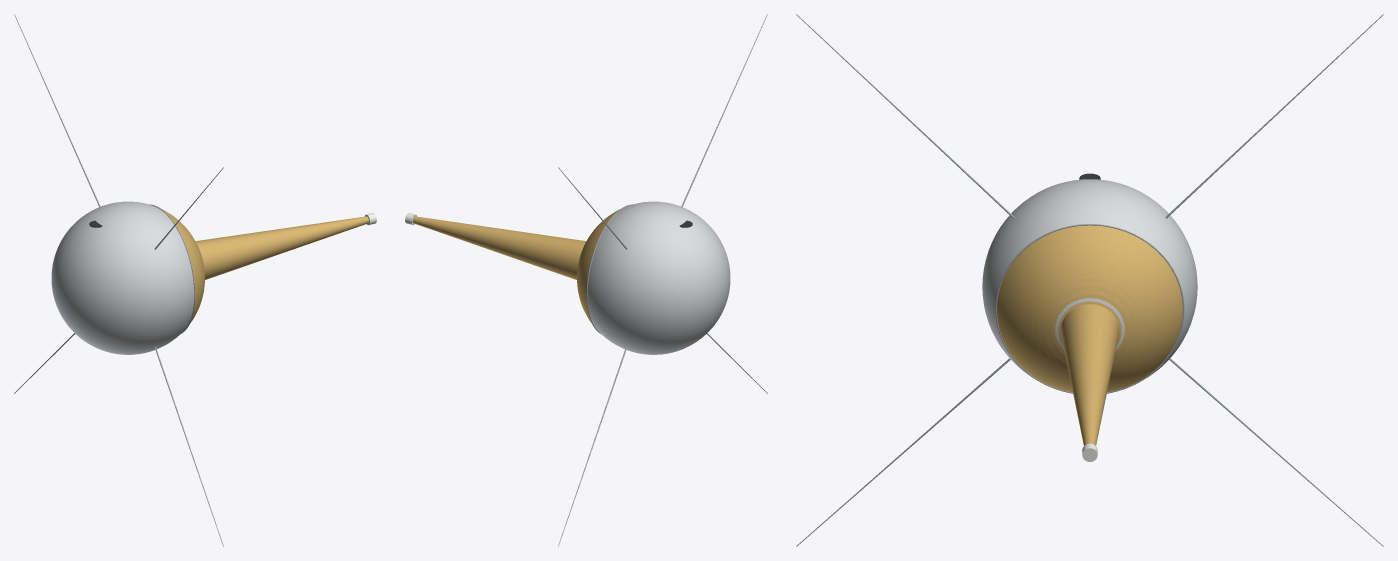
The model's file is vanguard-3.glb.
3 renders of one model, left to right at view 1: azimuth 30°, elevation 25°; view 2: azimuth 150°, elevation 25°; view 3: azimuth 270°, elevation 25°, orthographic. The views are drawn at different scales.
Parts seen in each view (by area): view 1: Magnesium lower sphere, 50.8 cm, Nonmagnetic magnetometer extension; view 2: Magnesium lower sphere, 50.8 cm, Nonmagnetic magnetometer extension; view 3: Magnesium lower sphere, 50.8 cm, Nonmagnetic magnetometer extension, Phenolic upper cap 11, Phenolic upper cap 10, Phenolic upper cap 12, Phenolic upper cap 13, Phenolic upper cap 9, Phenolic upper cap 8, Phenolic upper cap 7, Phenolic upper cap 6, Phenolic upper cap 5, Phenolic upper cap 4 (+5 smaller).
Boxes of the visible parts, <box> form: Magnesium lower sphere, 50.8 cm: <box>51,201,194,354</box>; Nonmagnetic magnetometer extension: <box>195,216,369,279</box>; Magnesium lower sphere, 50.8 cm: <box>587,201,730,354</box>; Nonmagnetic magnetometer extension: <box>412,216,586,279</box>; Magnesium lower sphere, 50.8 cm: <box>982,179,1197,378</box>; Nonmagnetic magnetometer extension: <box>1060,304,1119,445</box>; Phenolic upper cap 11: <box>1031,272,1148,374</box>; Phenolic upper cap 10: <box>1026,266,1153,377</box>; Phenolic upper cap 12: <box>1037,278,1142,369</box>; Phenolic upper cap 13: <box>1043,285,1136,364</box>; Phenolic upper cap 9: <box>1022,261,1157,380</box>; Phenolic upper cap 8: <box>1018,256,1161,383</box>; Phenolic upper cap 7: <box>1014,251,1165,385</box>; Phenolic upper cap 6: <box>1011,246,1168,386</box>; Phenolic upper cap 5: <box>1008,242,1171,388</box>; Phenolic upper cap 4: <box>1005,238,1174,389</box>.
Size of the model in its own units: 86.06 by 100 by 100.
